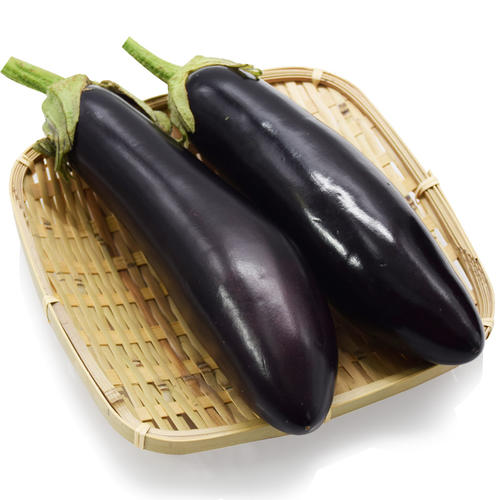fruit_eggplant: (4, 41, 337, 442), (118, 29, 487, 369)
